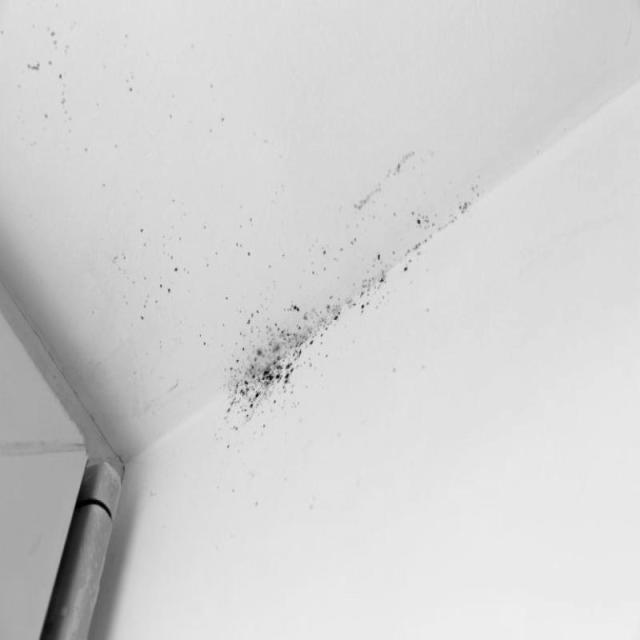stain marks: (100, 117, 497, 464)
